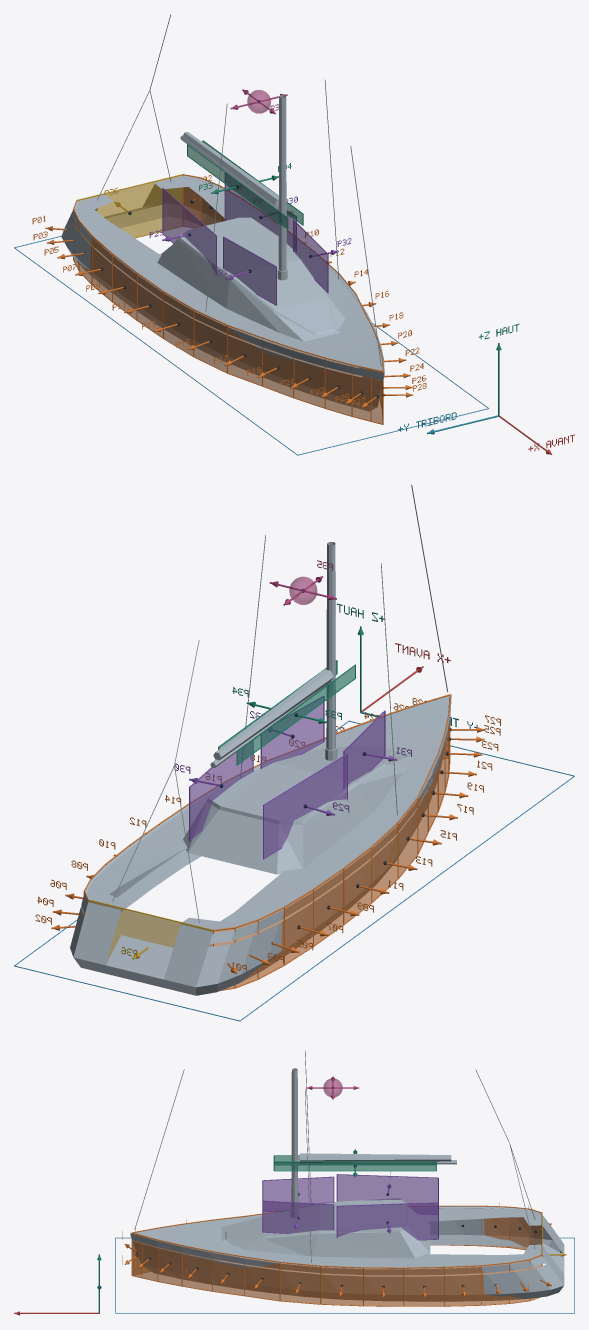
The model's file is fardage.glb.
3 views of the same model, one above another, from view 1: azimuth 30°, elevation 25°; view 2: azimuth 150°, elevation 25°; view 3: azimuth 270°, elevation 25° (orthographic). The views are drawn at different scales.
Parts seen in each view (by area): view 1: GLB visuel existant - contexte uniquement, P36 - transom-closure, P29 - coachroof-aft-starboard, P31 - coachroof-fore-starboard, Normales - fleches de direction, pas de force, P30 - coachroof-aft-port, Codes des panneaux, P15 - freeboard-7-starboard, P17 - freeboard-8-starboard, P13 - freeboard-6-starboard, P21 - freeboard-10-starboard, P32 - coachroof-fore-port (+11 smaller); view 2: GLB visuel existant - contexte uniquement, P29 - coachroof-aft-starboard, P32 - coachroof-fore-port, Codes des panneaux, P30 - coachroof-aft-port, Normales - fleches de direction, pas de force, P36 - transom-closure, P33 - boom-starboard, P31 - coachroof-fore-starboard, P09 - freeboard-4-starboard, P07 - freeboard-3-starboard, P11 - freeboard-5-starboard (+4 smaller); view 3: GLB visuel existant - contexte uniquement, P30 - coachroof-aft-port, P29 - coachroof-aft-starboard, P32 - coachroof-fore-port, P31 - coachroof-fore-starboard, P34 - boom-port, P14 - freeboard-6-port, P10 - freeboard-4-port, P16 - freeboard-7-port, P12 - freeboard-5-port, P08 - freeboard-3-port, P18 - freeboard-8-port (+10 smaller).
Boxes of the visible parts, bbox=[...] form: GLB visuel existant - contexte uniquement: bbox=[61, 14, 384, 411]; P36 - transom-closure: bbox=[77, 174, 182, 247]; P29 - coachroof-aft-starboard: bbox=[162, 188, 216, 275]; P31 - coachroof-fore-starboard: bbox=[223, 236, 276, 305]; Normales - fleches de direction, pas de force: bbox=[45, 89, 413, 407]; P30 - coachroof-aft-port: bbox=[224, 173, 296, 251]; Codes des panneaux: bbox=[32, 104, 426, 406]; P15 - freeboard-7-starboard: bbox=[193, 309, 227, 373]; P17 - freeboard-8-starboard: bbox=[227, 325, 262, 386]; P13 - freeboard-6-starboard: bbox=[163, 291, 194, 356]; P21 - freeboard-10-starboard: bbox=[293, 348, 325, 408]; P32 - coachroof-fore-port: bbox=[293, 219, 328, 293]; GLB visuel existant - contexte uniquement: bbox=[70, 484, 451, 995]; P29 - coachroof-aft-starboard: bbox=[263, 753, 347, 859]; P32 - coachroof-fore-port: bbox=[260, 696, 324, 768]; Codes des panneaux: bbox=[35, 560, 500, 972]; P30 - coachroof-aft-port: bbox=[189, 741, 253, 841]; Normales - fleches de direction, pas de force: bbox=[51, 576, 484, 974]; P36 - transom-closure: bbox=[88, 899, 213, 964]; P33 - boom-starboard: bbox=[236, 664, 355, 765]; P31 - coachroof-fore-starboard: bbox=[343, 710, 385, 788]; P09 - freeboard-4-starboard: bbox=[313, 868, 344, 946]; P07 - freeboard-3-starboard: bbox=[284, 889, 313, 965]; P11 - freeboard-5-starboard: bbox=[343, 846, 372, 924]; GLB visuel existant - contexte uniquement: bbox=[130, 1050, 564, 1301]; P30 - coachroof-aft-port: bbox=[336, 1202, 438, 1240]; P29 - coachroof-aft-starboard: bbox=[336, 1174, 438, 1214]; P32 - coachroof-fore-port: bbox=[262, 1200, 334, 1233]; P31 - coachroof-fore-starboard: bbox=[262, 1176, 334, 1211]; P34 - boom-port: bbox=[273, 1161, 436, 1171]; P14 - freeboard-6-port: bbox=[320, 1265, 363, 1306]; P10 - freeboard-4-port: bbox=[403, 1266, 444, 1306]; P16 - freeboard-7-port: bbox=[279, 1262, 321, 1304]; P12 - freeboard-5-port: bbox=[363, 1267, 403, 1306]; P08 - freeboard-3-port: bbox=[444, 1265, 481, 1306]; P18 - freeboard-8-port: bbox=[244, 1256, 280, 1301].
Size of the model in its own units: 5.41 by 5.65 by 13.81.
